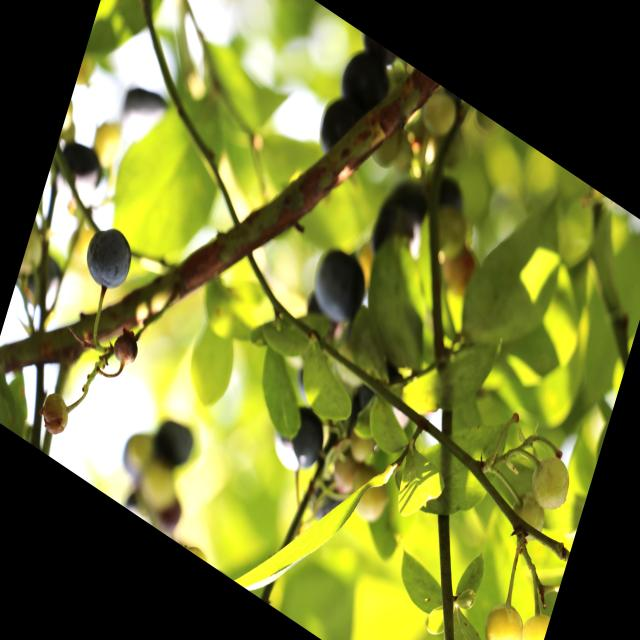blueberry: (304, 237, 371, 336), (332, 38, 398, 125), (80, 214, 140, 302), (268, 399, 328, 484), (310, 83, 370, 168)
blueberry-unripe: (526, 447, 576, 518), (507, 490, 549, 547), (478, 594, 528, 640), (518, 605, 550, 640)
